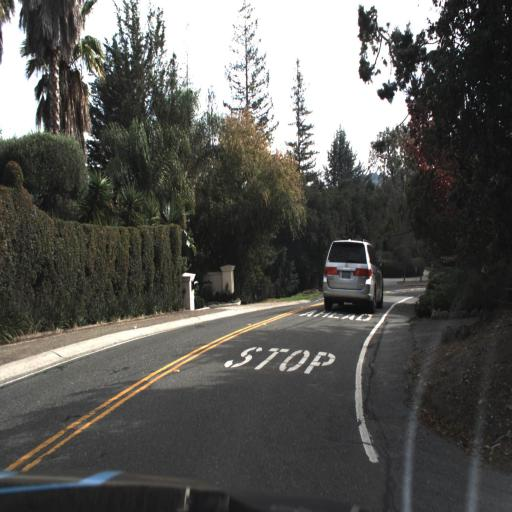car: (301, 231, 397, 309)
